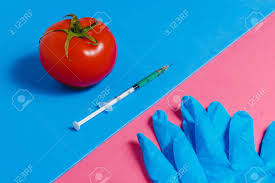tomato: (40, 18, 117, 88)
